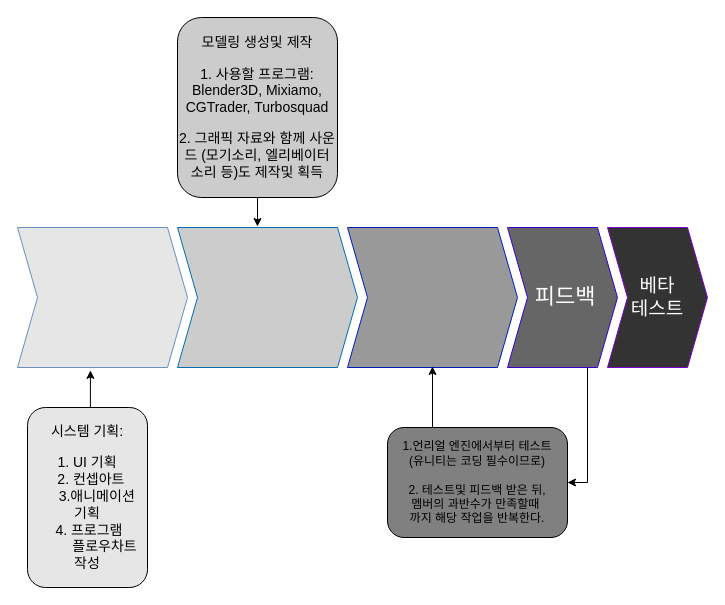
Image size: 725x605. Some labels were removed from this diagram. Each missing label, with the centre of its shape:
"그래픽 제작" belongs at [267,297].
"기획(세부)" belongs at [102,297].
"테스트" belongs at [432,297].
